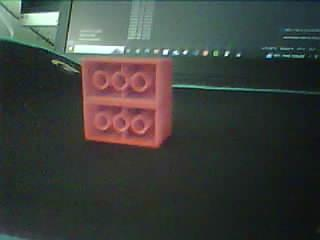lego: (80, 55, 172, 147)
